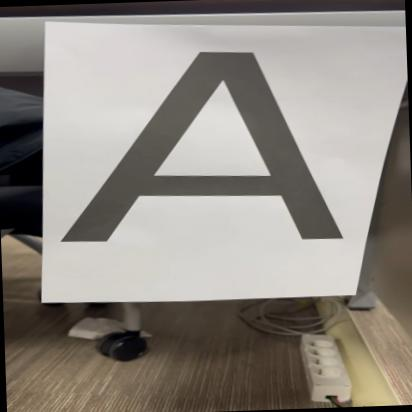seat: (61, 35, 343, 248)
